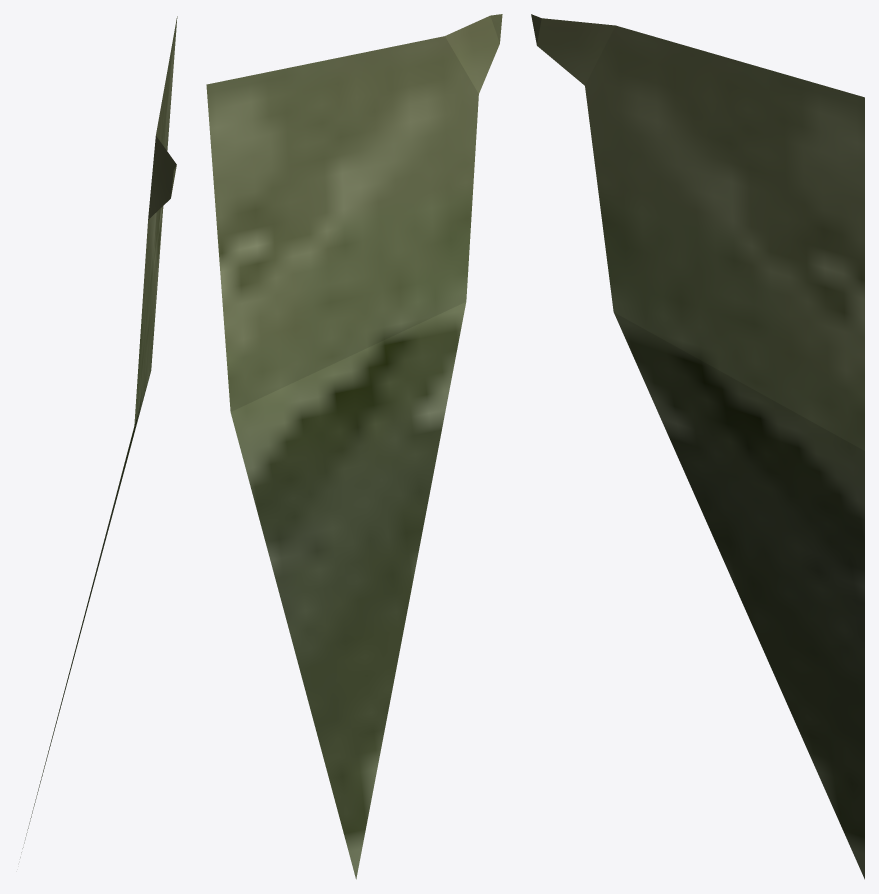
3 renders of one model, left to right at view 1: azimuth 30°, elevation 25°; view 2: azimuth 150°, elevation 25°; view 3: azimuth 270°, elevation 25°, orthographic. The views are drawn at different scales.
Size of the model in its own units: 0.1008 by 0.488 by 0.1706.
Materials: 1 (1 with a texture image).
